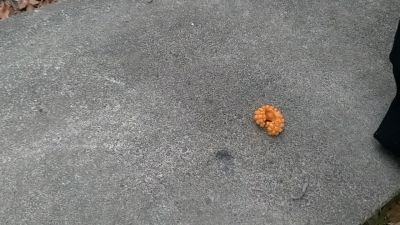eggs: (253, 104, 286, 137)
